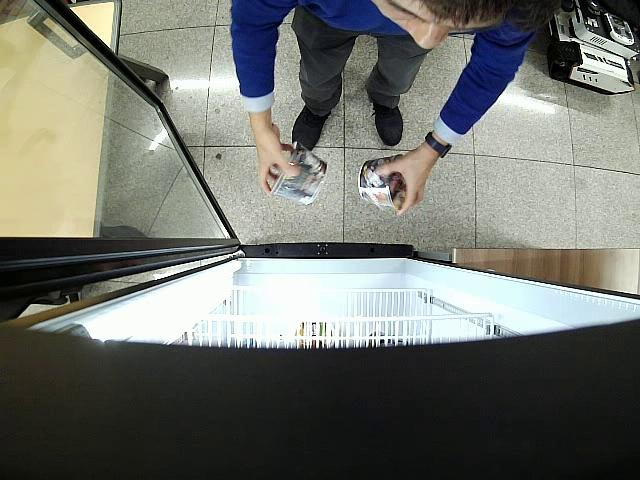00_hand: (374, 146, 435, 216), (251, 121, 302, 196)
07_buldak_L: (271, 140, 327, 204), (358, 154, 406, 210)
